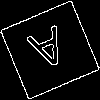A: (25, 25, 74, 81)
